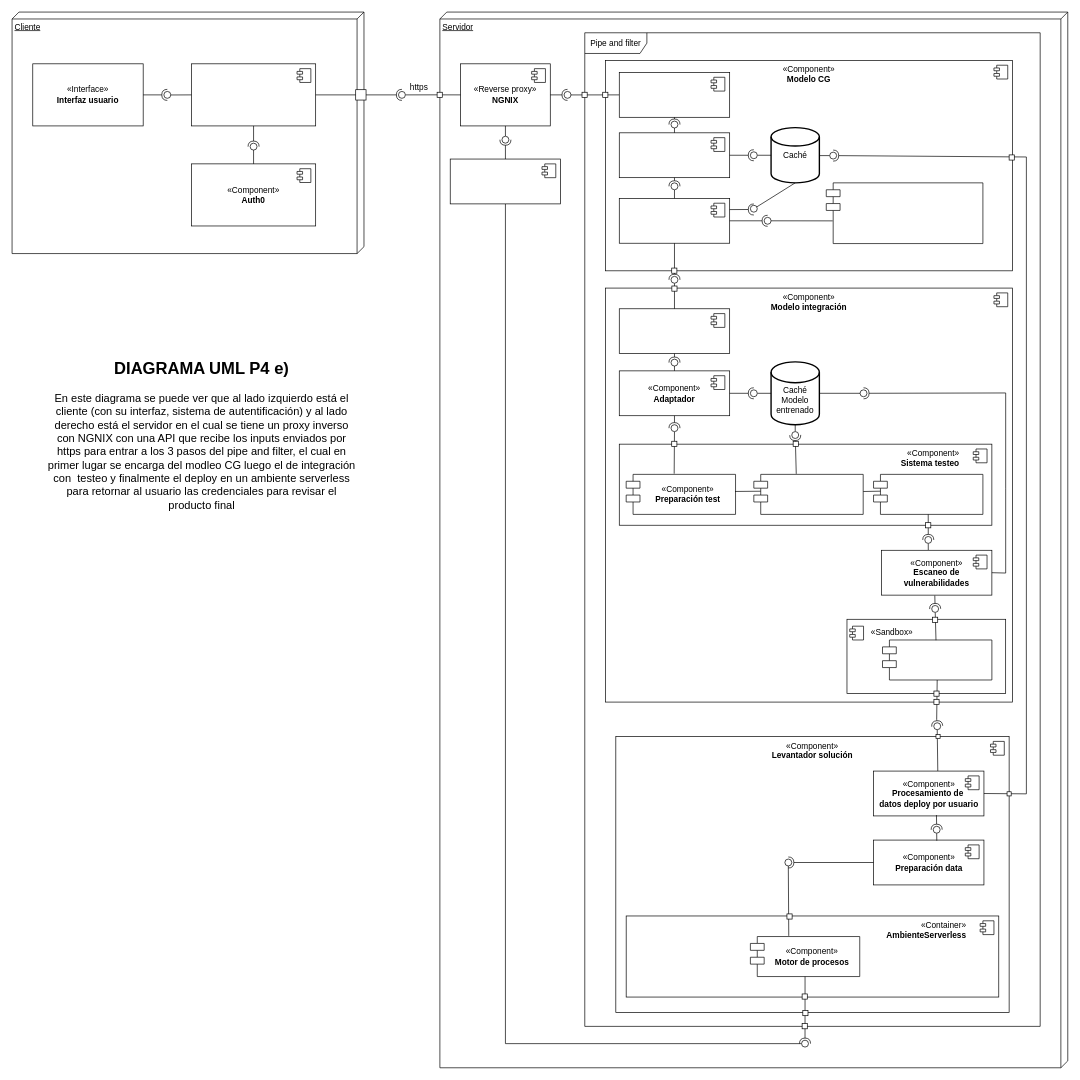
Image size: 1080x1080. Some labels were removed from this diagram. The centre of each missing label's shape, as x and y in pixels:
«API test» Test enpoints: the point at 937,659
«API» Lector de inputs: the point at 674,94
«Component» Análisis resultados: the point at 928,494
«Component» Data fetcher: the point at 674,155
«Component» Entrega usuario credenciales: the point at 505,181
«Component» Entrenamiento: the point at 674,220
«Component» Manejo de sesión: the point at 253,94
«Component» Procesamiento de datos: the point at 674,331
«Component» Revisión de vulnerabilidades (Notificación usuario): the point at 904,213
«Component» Testeo unitario: the point at 808,494
